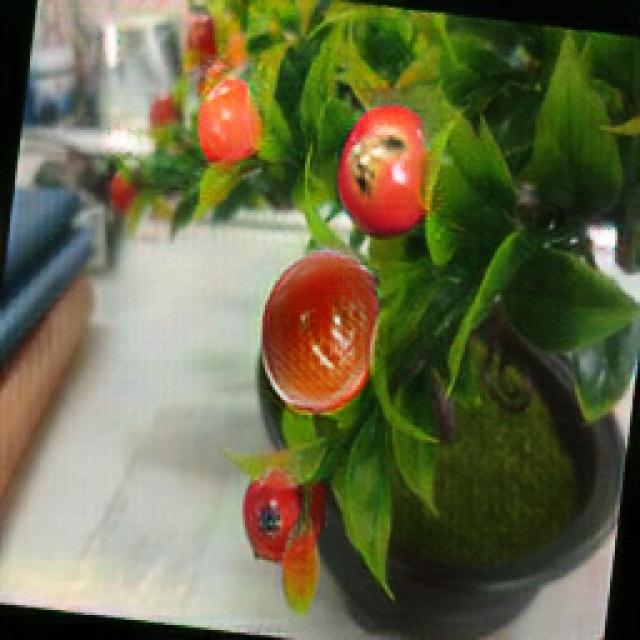overripe tomato: (252, 253, 380, 409), (338, 107, 430, 240), (243, 467, 324, 558)
